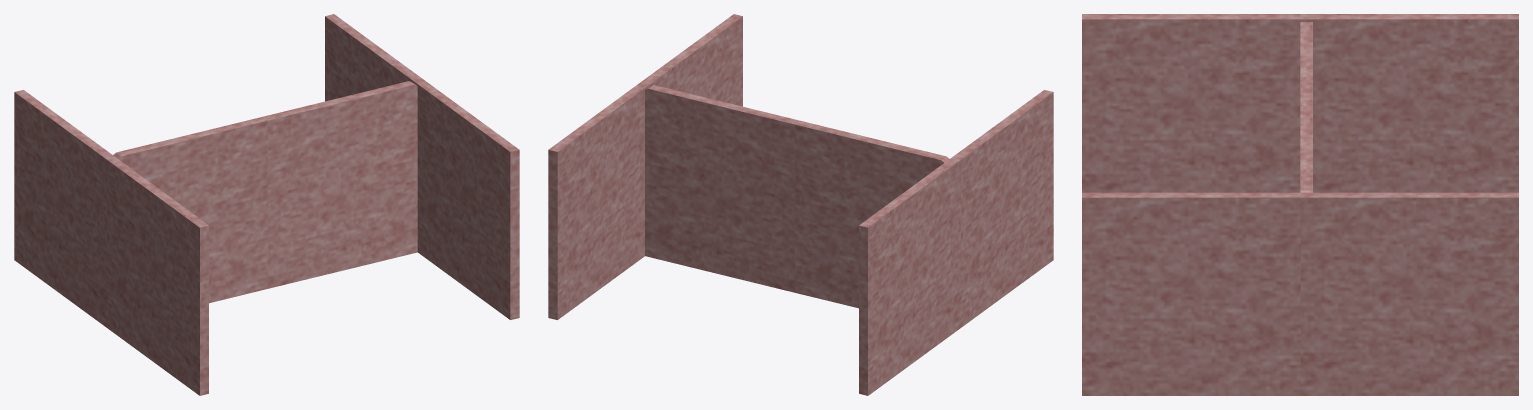
File: divider_full_h_red.obj
The picture shows the model from 3 angles, left to right: view 1: azimuth 30°, elevation 25°; view 2: azimuth 150°, elevation 25°; view 3: azimuth 270°, elevation 25°; orthographic projection. The views are drawn at different scales.
Visible parts, largest first — view 1: divider_full_h_red; view 2: divider_full_h_red; view 3: divider_full_h_red.
Boxes of the visible parts, bbox=[...] form: divider_full_h_red: bbox=[14, 14, 519, 395]; divider_full_h_red: bbox=[548, 14, 1053, 395]; divider_full_h_red: bbox=[1082, 14, 1518, 395].
Bounding box in the file's own units: 2.99 × 1.5 × 3.
